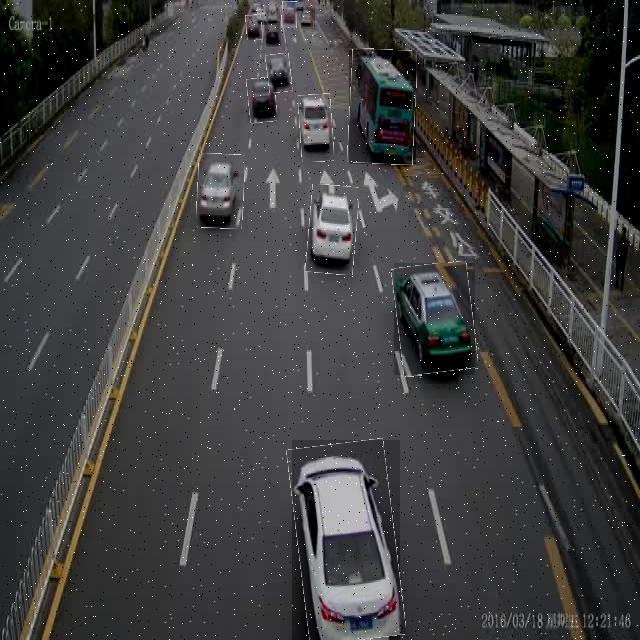Car: (292, 440, 400, 640), (394, 264, 475, 376), (349, 50, 416, 164), (307, 185, 358, 275), (197, 153, 245, 229), (299, 94, 333, 161), (247, 77, 276, 123), (266, 53, 291, 93), (245, 15, 262, 40), (265, 21, 281, 47), (282, 1, 297, 28), (302, 7, 316, 29)
